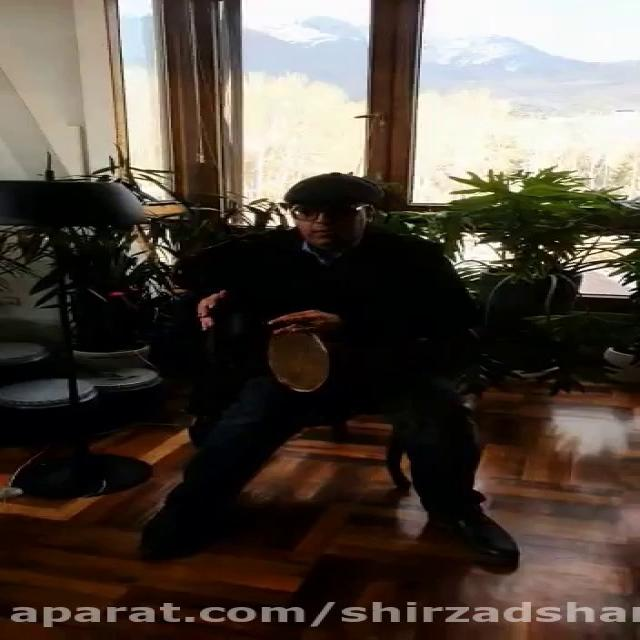Tombak: (269, 318, 515, 397)
